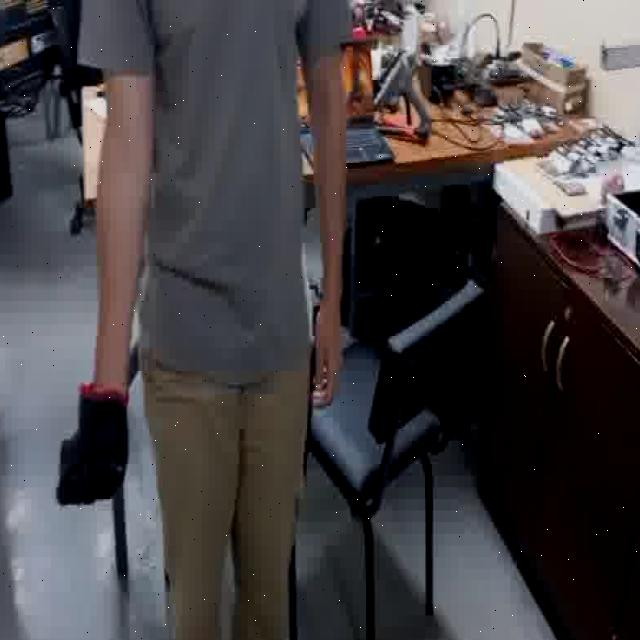Gloves: (57, 385, 130, 506)
